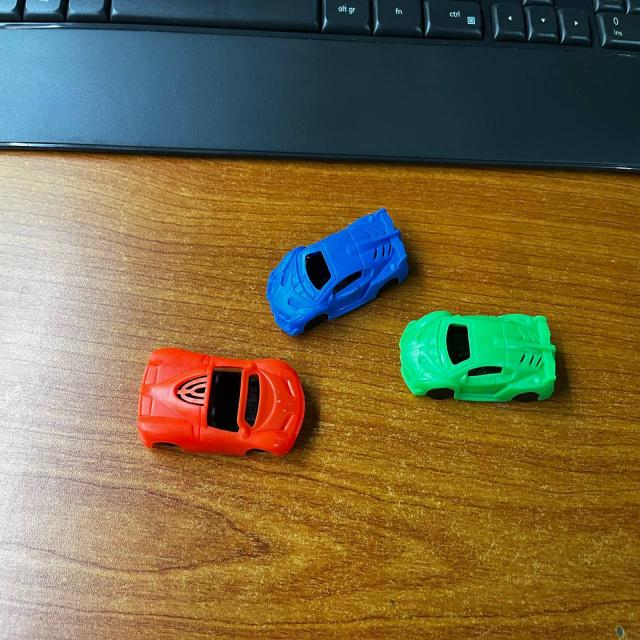car: (138, 343, 306, 472), (263, 200, 408, 339), (395, 303, 559, 415)
